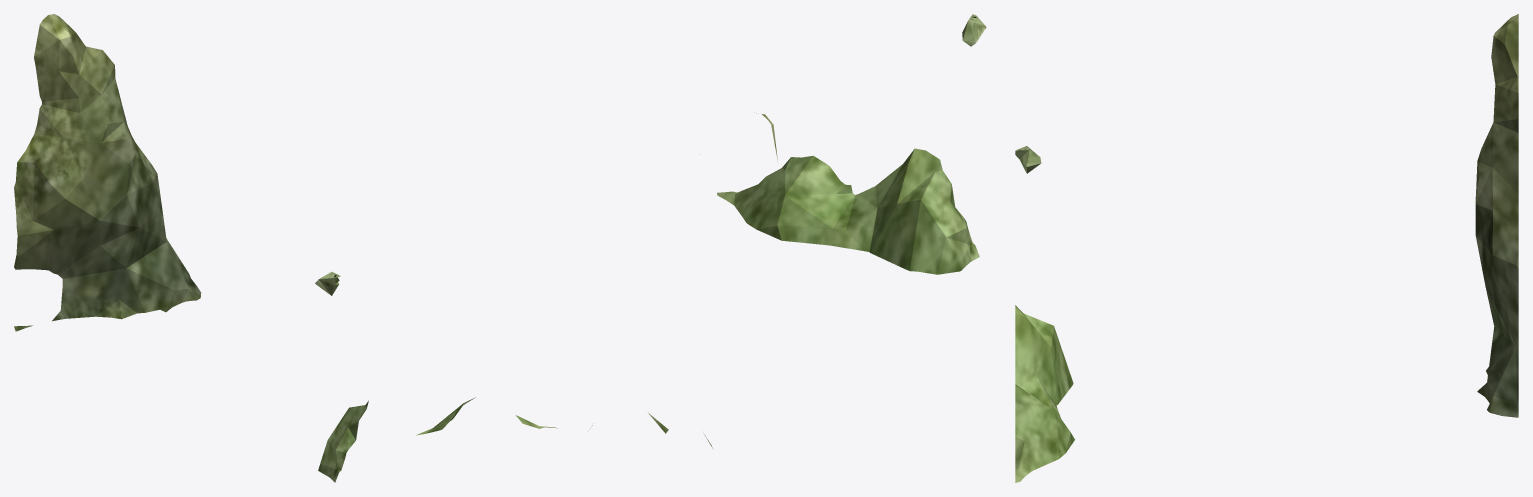
The picture shows the model from 3 angles, left to right: view 1: azimuth 30°, elevation 25°; view 2: azimuth 150°, elevation 25°; view 3: azimuth 270°, elevation 25°; orthographic projection. The views are drawn at different scales.
Bounding box in the file's own units: 2.22 × 2.11 × 2.95.
1 material, 1 textured.
